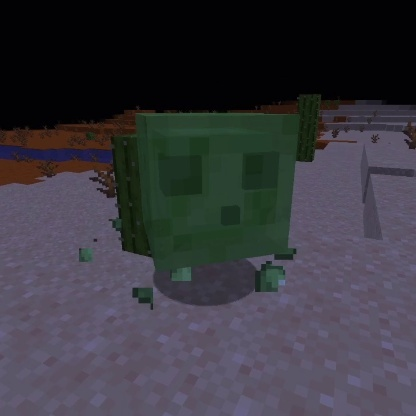slime: (131, 109, 303, 275)
